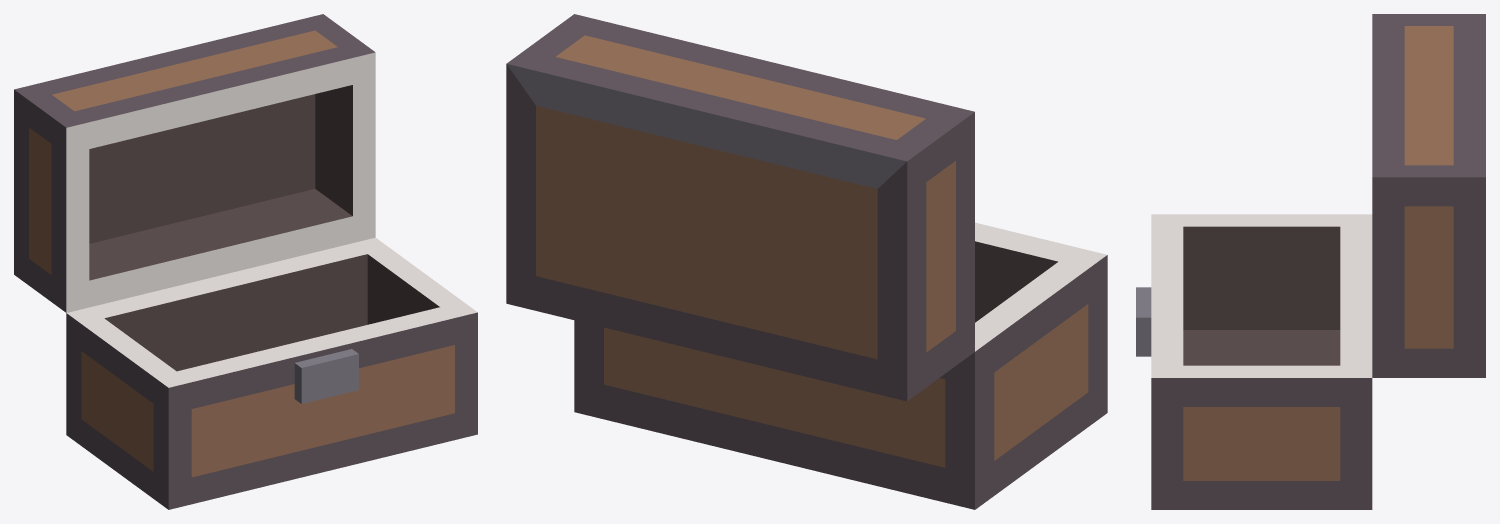
File: TB_Prop_Chest_Sq_Open_B.FBX
3 renders of one model, left to right at view 1: azimuth 30°, elevation 25°; view 2: azimuth 150°, elevation 25°; view 3: azimuth 270°, elevation 25°, orthographic. The views are drawn at different scales.
Visible parts, largest first — view 1: TB_Prop_Chest_Sq_Open_B; view 2: TB_Prop_Chest_Sq_Open_B; view 3: TB_Prop_Chest_Sq_Open_B.
Boxes of the visible parts, x1,y1,x2,y2 form: TB_Prop_Chest_Sq_Open_B: [14, 14, 477, 509]; TB_Prop_Chest_Sq_Open_B: [506, 14, 1107, 509]; TB_Prop_Chest_Sq_Open_B: [1136, 14, 1485, 509].
Bounding box in the file's own units: 1.05 × 0.9932 × 0.9464.
